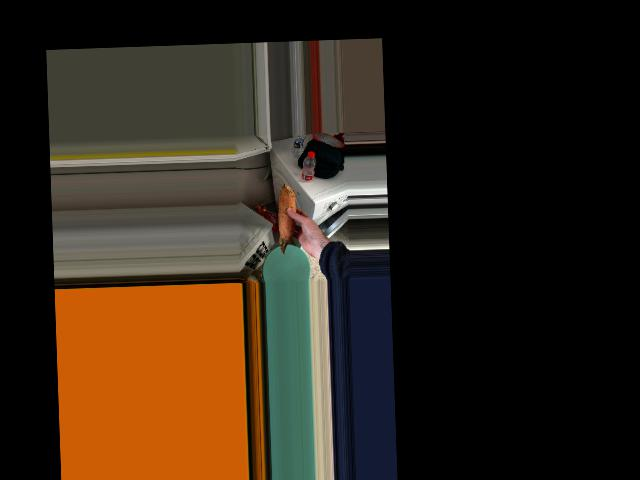sweet_potato: (276, 188, 300, 249)
